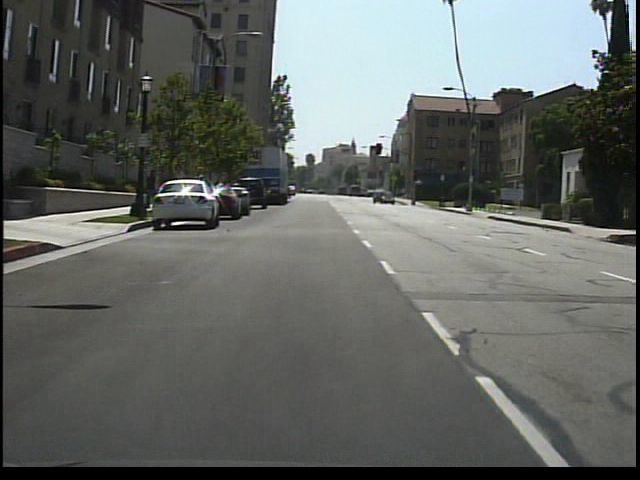person: (145, 167, 163, 215)
